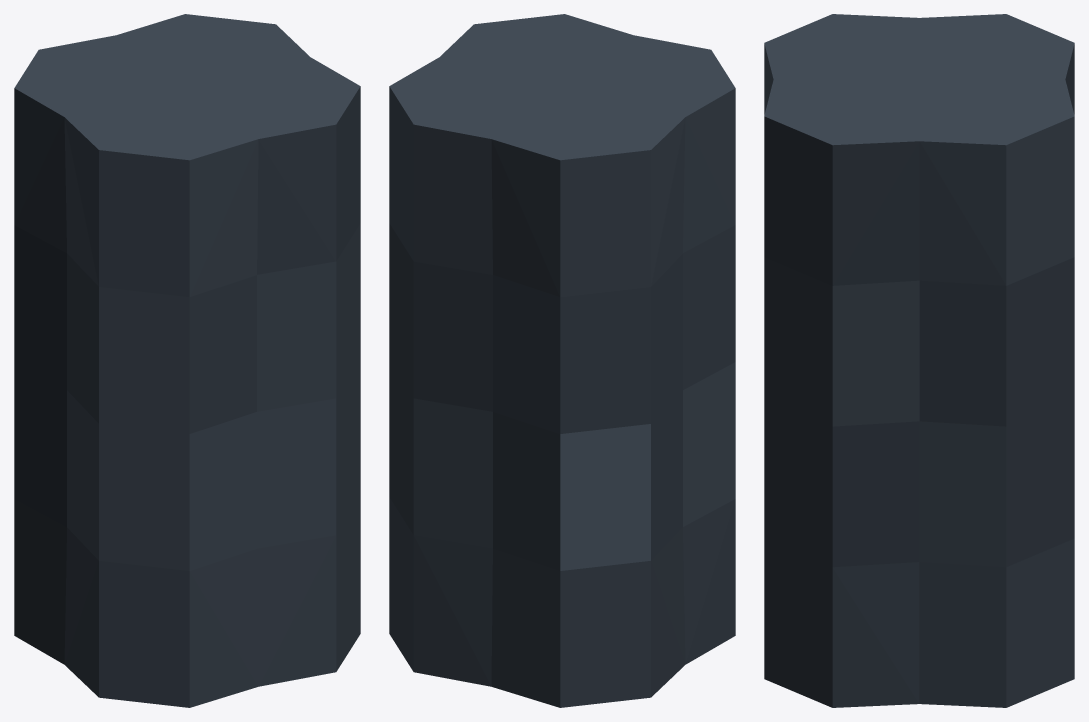
Rendered from Section_3.glb.
The picture shows the model from 3 angles, left to right: view 1: azimuth 30°, elevation 25°; view 2: azimuth 150°, elevation 25°; view 3: azimuth 270°, elevation 25°; orthographic projection. The views are drawn at different scales.
Parts seen in each view (by area): view 1: Section; view 2: Section; view 3: Section.
Part boxes in pixels (<box>): Section: <box>14,14,360,707</box>; Section: <box>389,14,735,707</box>; Section: <box>764,14,1074,707</box>.
Size of the model in its own units: 2.2 by 4.4 by 2.2.
